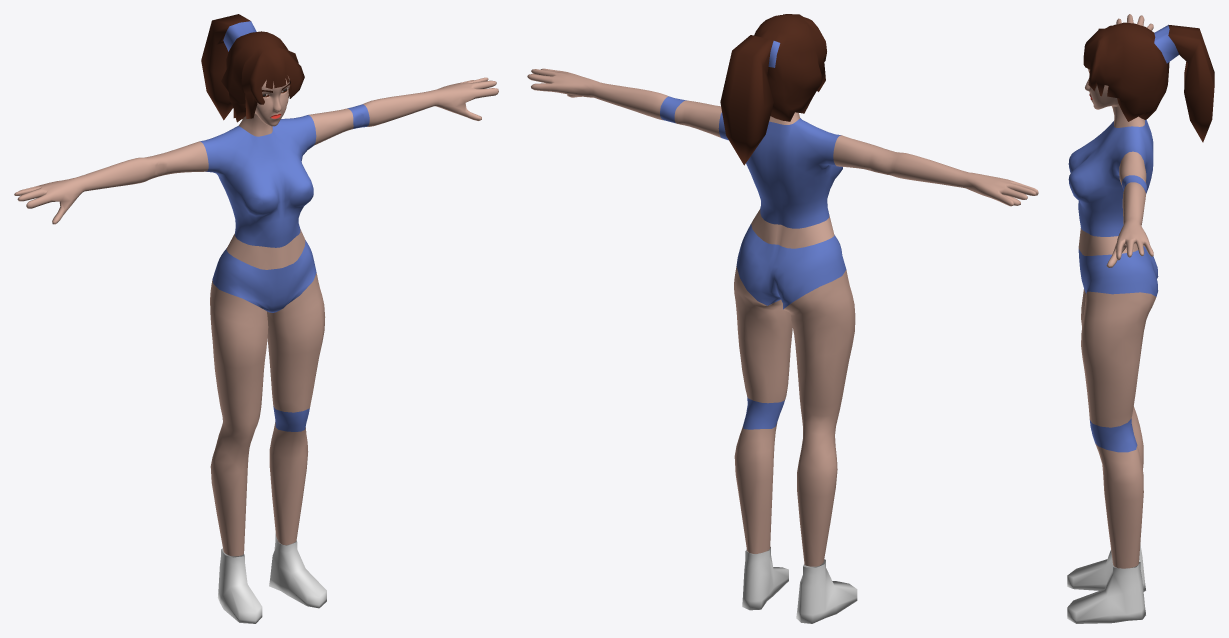
The model's file is MODEL_FINALBRAVOS_GAME_BR.fbx.
3 renders of one model, left to right at view 1: azimuth 30°, elevation 25°; view 2: azimuth 150°, elevation 25°; view 3: azimuth 270°, elevation 25°, orthographic. The views are drawn at different scales.
Visible parts, largest first — view 1: Cube.006_Cube.001, Cube.001, Cube.000, Cube.008_Cube.000; view 2: Cube.006_Cube.001, Cube.001, Cube.000; view 3: Cube.006_Cube.001, Cube.001, Cube.000, Cube.008_Cube.000, Cube.007_Cube.000.
Boxes of the visible parts, x1=… form: Cube.006_Cube.001: x1=14, y1=77, x2=498, y2=556; Cube.001: x1=201, y1=14, x2=304, y2=122; Cube.000: x1=217, y1=533, x2=326, y2=623; Cube.008_Cube.000: x1=254, y1=76, x2=289, y2=126; Cube.006_Cube.001: x1=527, y1=68, x2=1038, y2=566; Cube.001: x1=720, y1=14, x2=826, y2=165; Cube.000: x1=742, y1=547, x2=857, y2=623; Cube.006_Cube.001: x1=1068, y1=14, x2=1158, y2=568; Cube.001: x1=1083, y1=22, x2=1214, y2=142; Cube.000: x1=1067, y1=542, x2=1145, y2=623; Cube.008_Cube.000: x1=1085, y1=69, x2=1119, y2=109; Cube.007_Cube.000: x1=1112, y1=106, x2=1144, y2=127.
Bounding box in the file's own units: 574 × 642 × 148.
